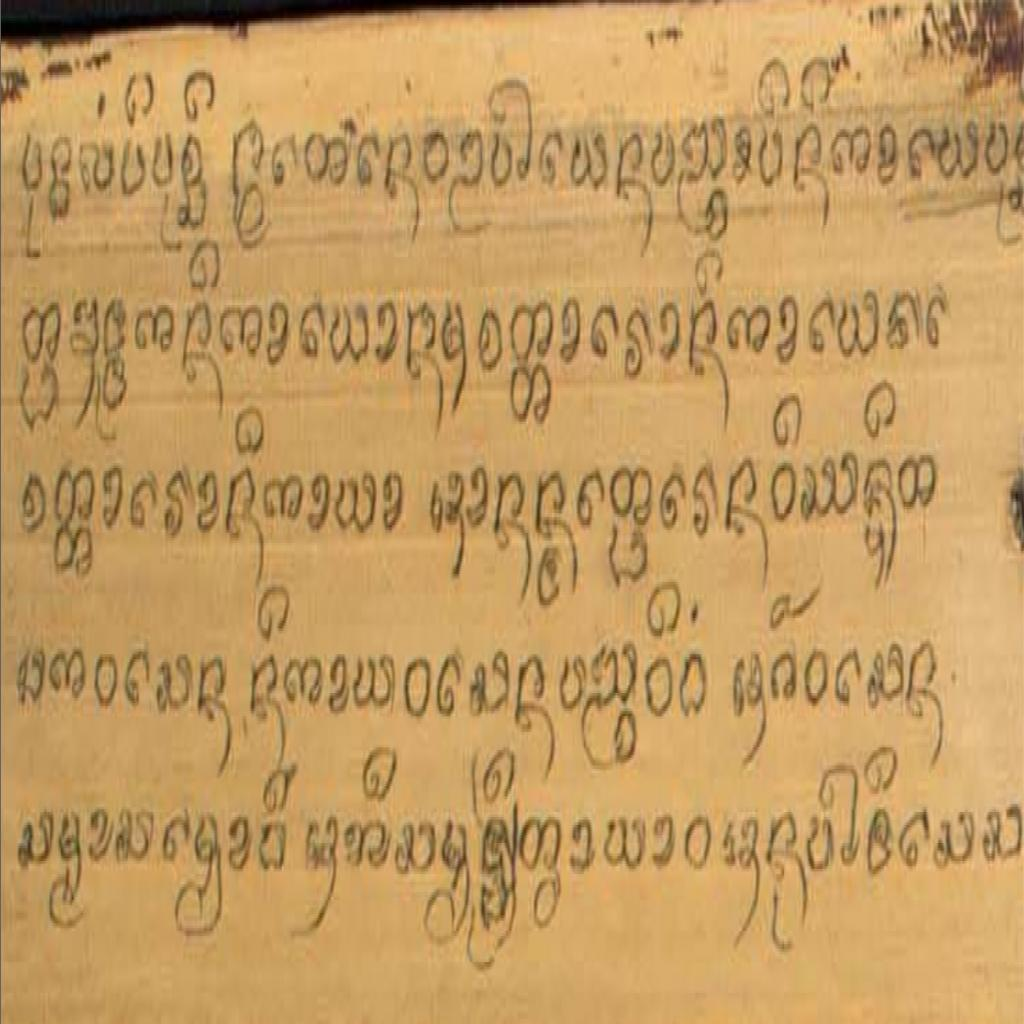LN035: (402, 650, 435, 729)
